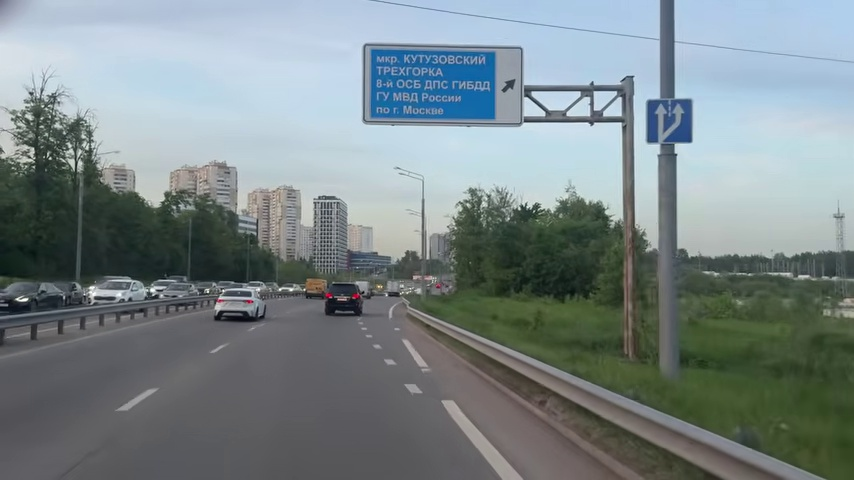apagada: (393, 164, 407, 179)
